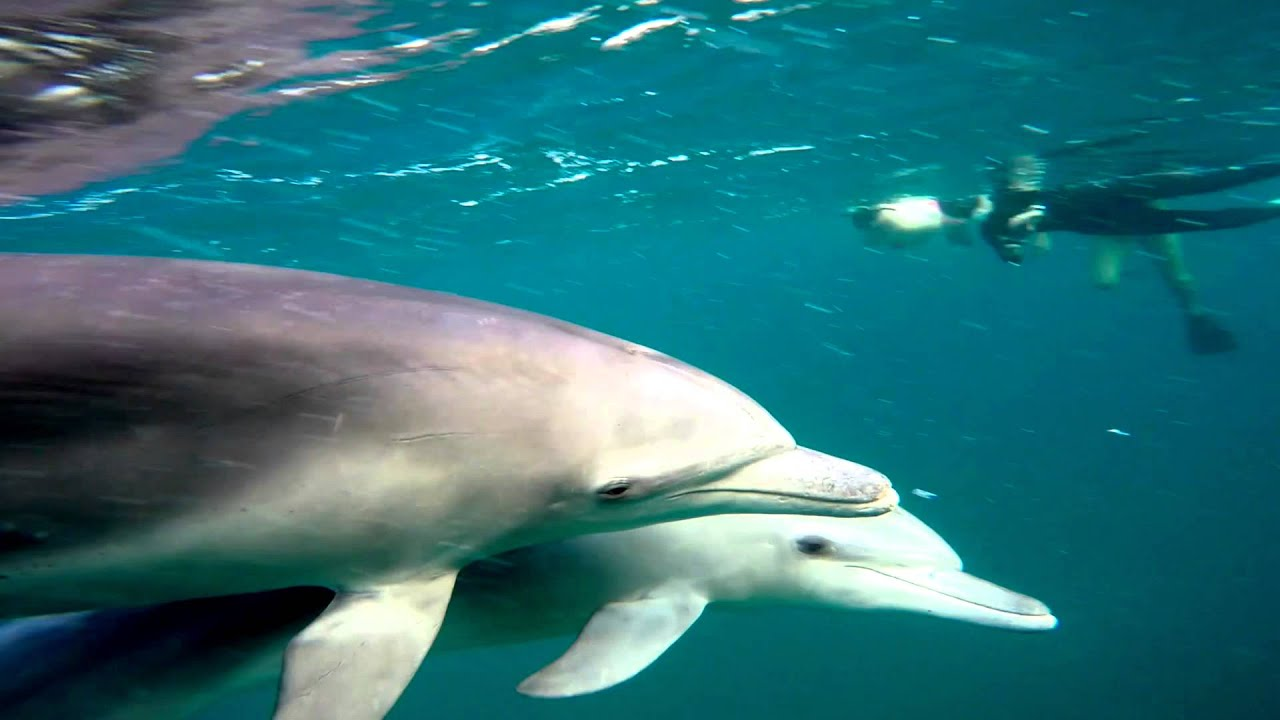dolphin: (1, 248, 902, 578), (474, 448, 1073, 667)
